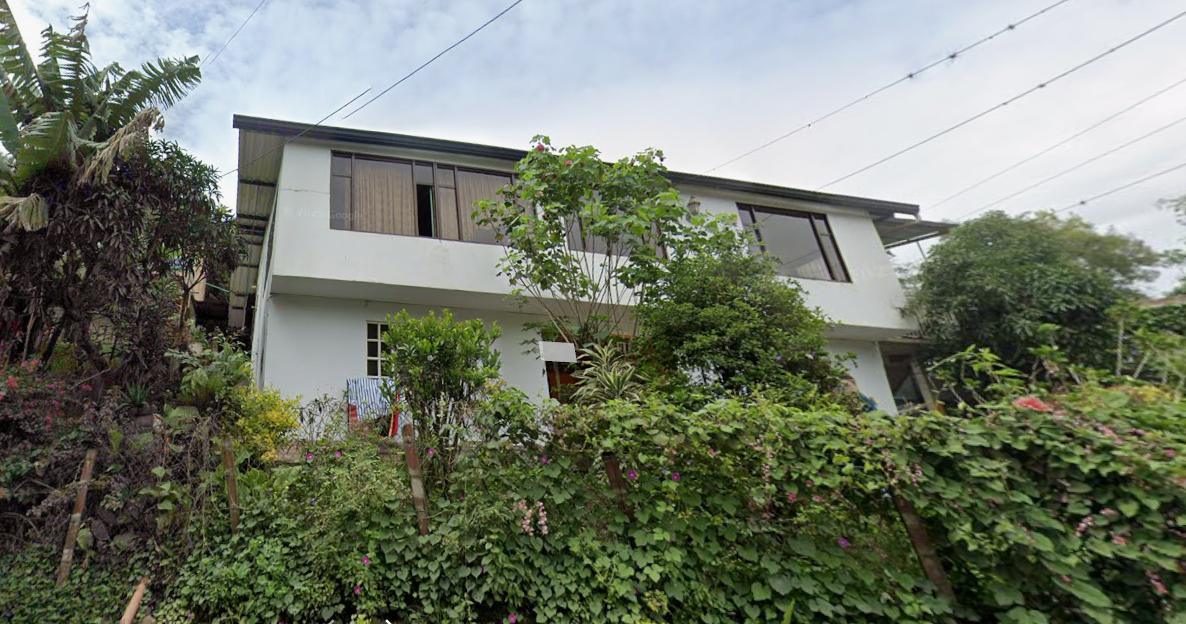casa: (228, 116, 636, 434), (668, 173, 951, 411)
